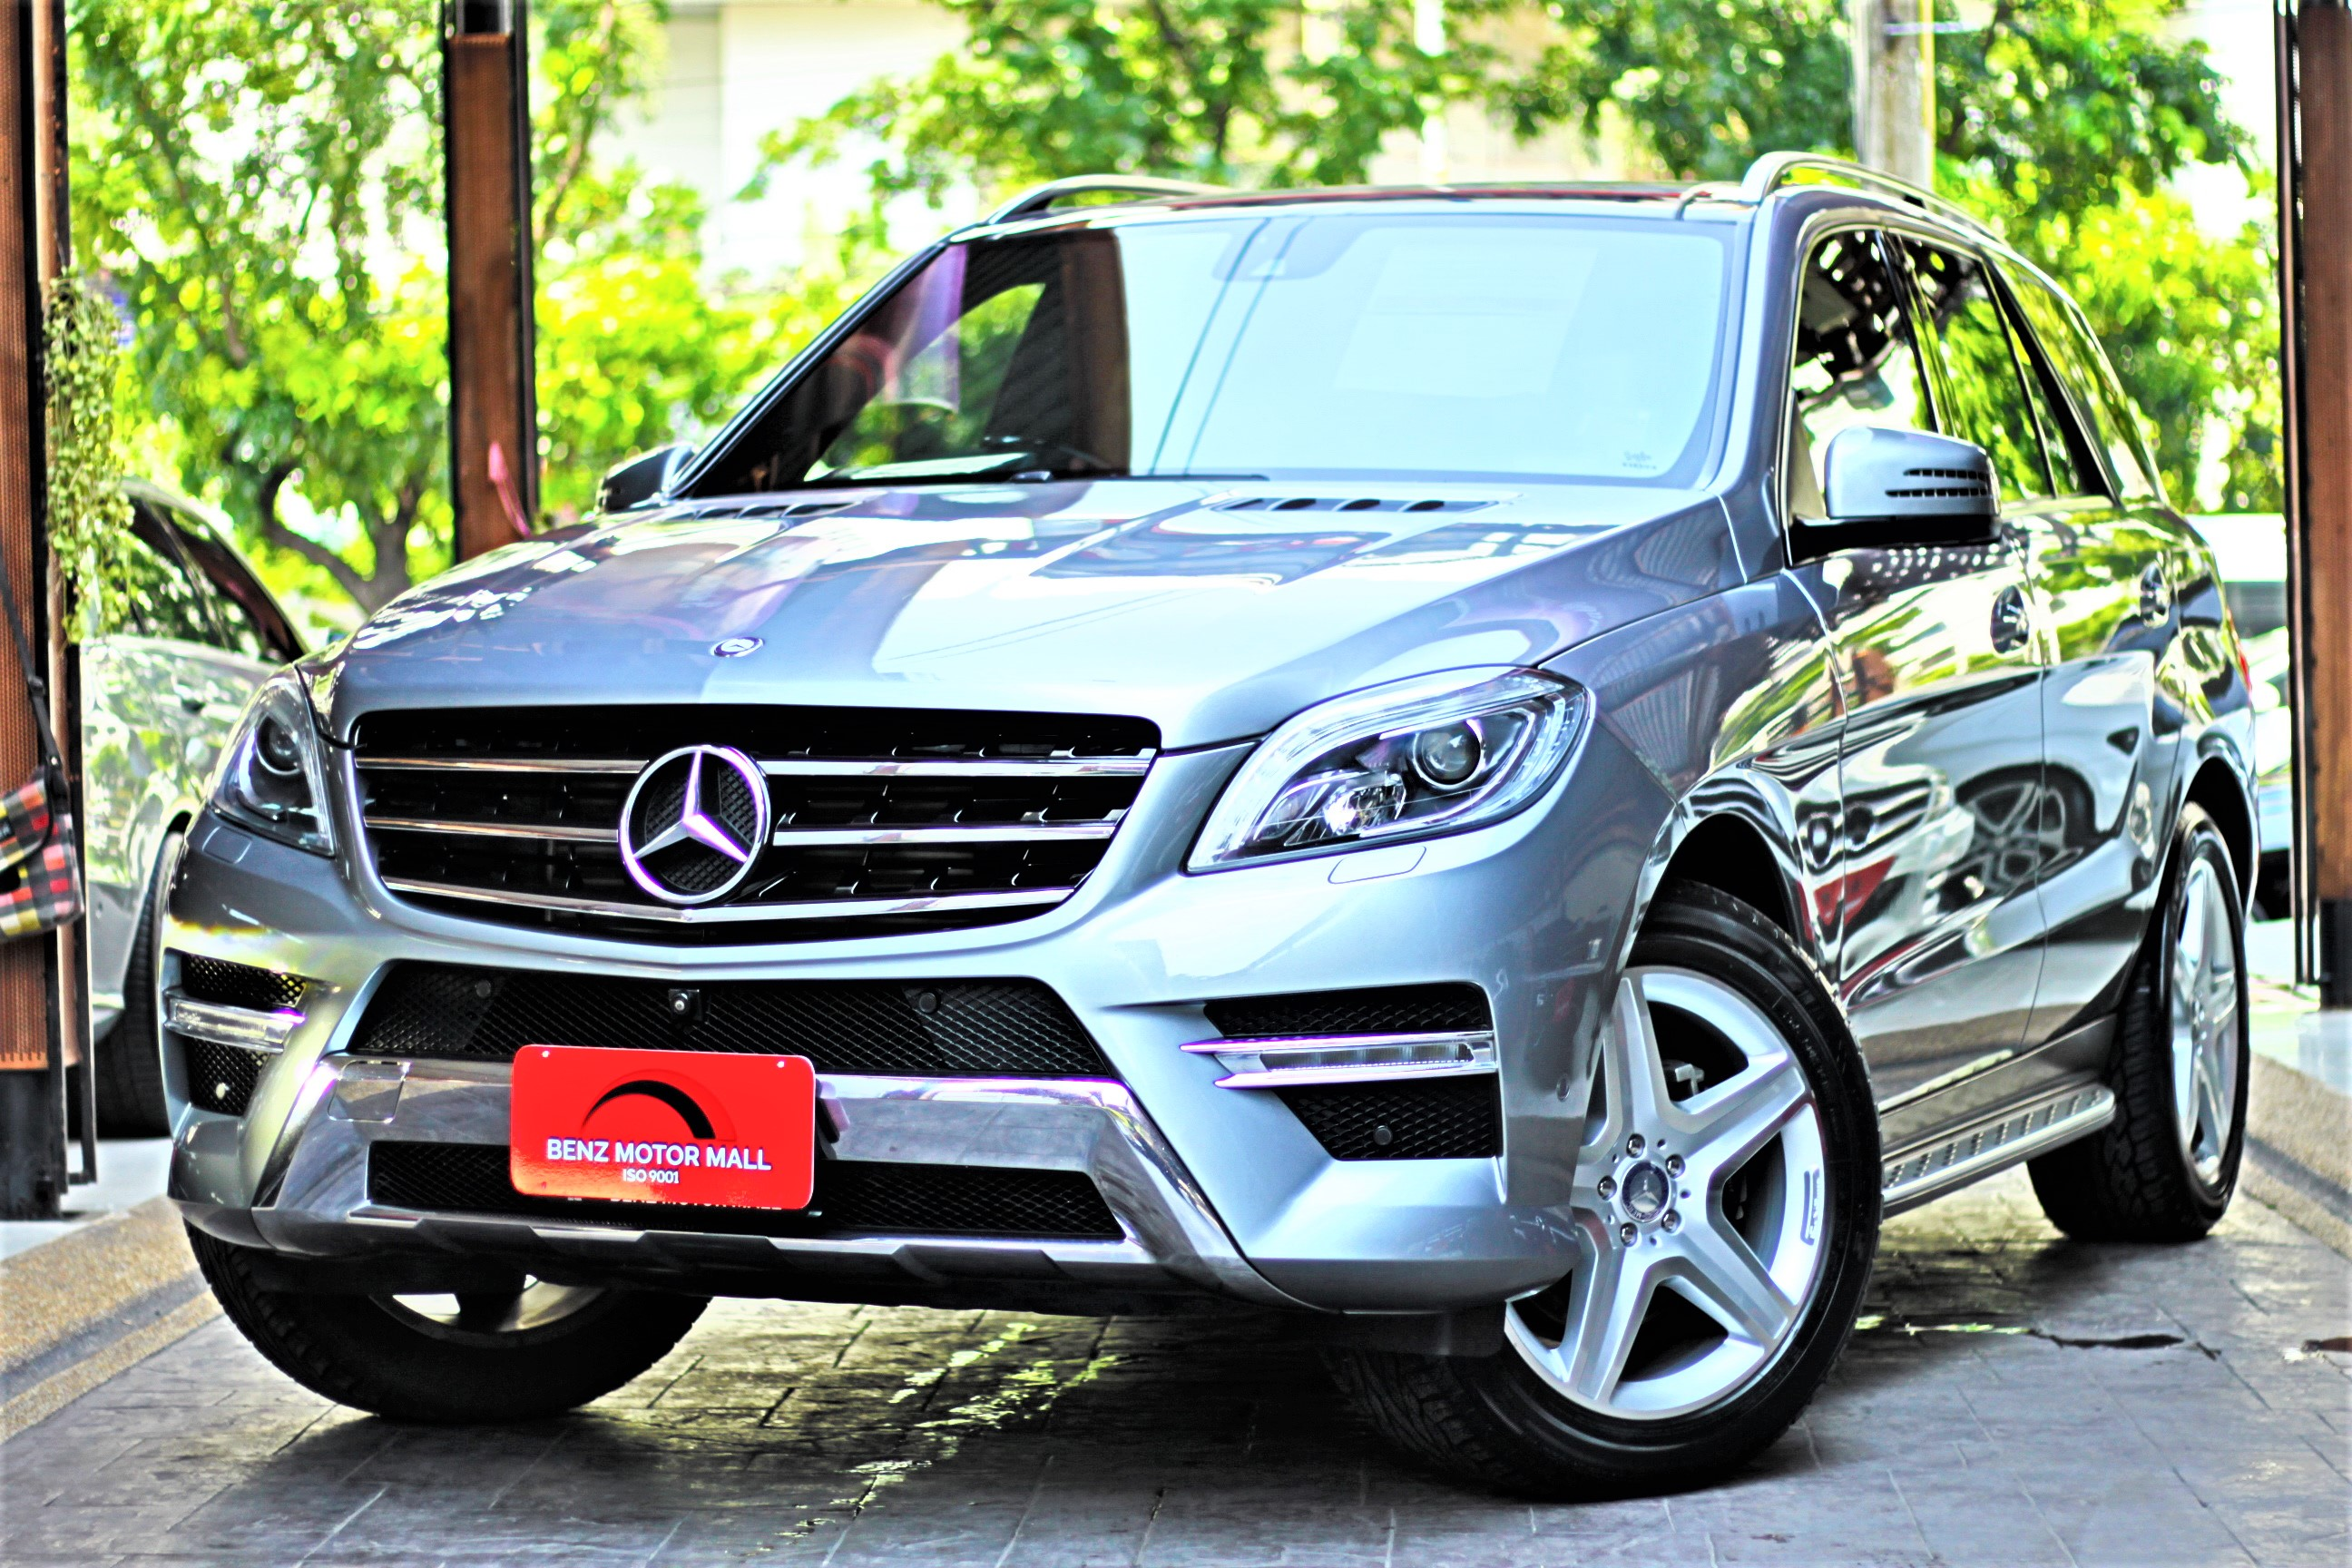pickup: (152, 164, 2259, 1487)
